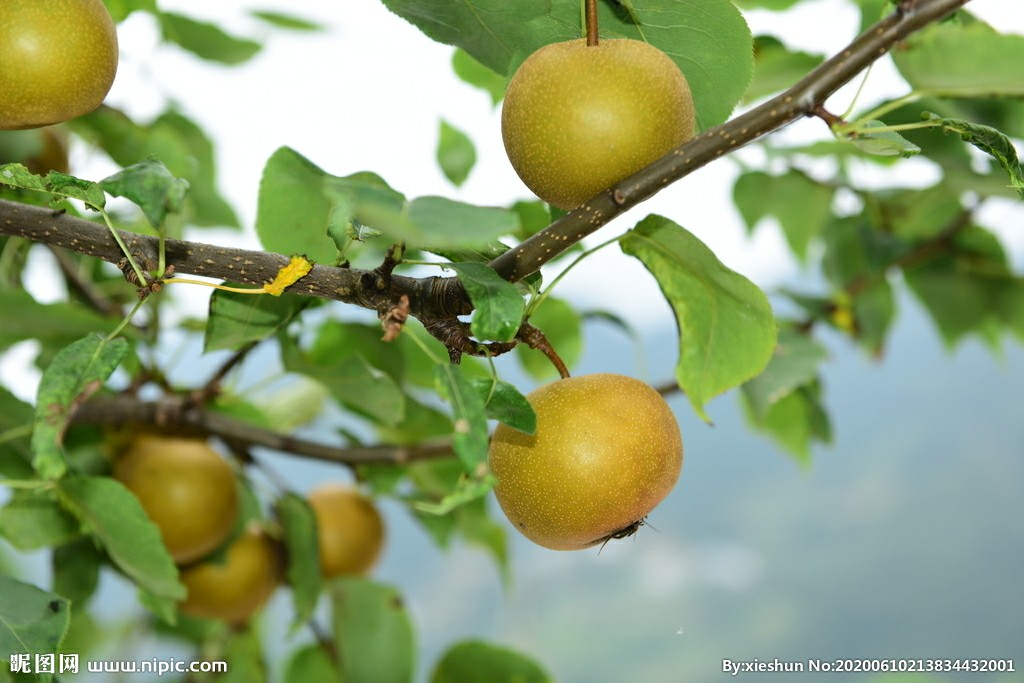pear: (488, 373, 683, 552), (502, 37, 698, 211), (103, 439, 238, 566), (1, 1, 120, 130), (168, 522, 283, 614), (271, 490, 385, 577)
